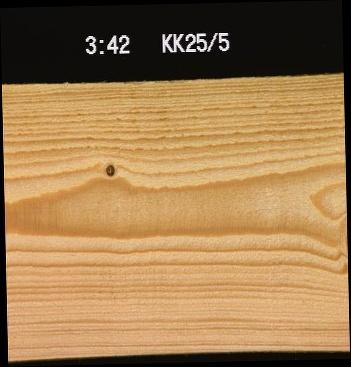dry_knot: (102, 161, 115, 177)
